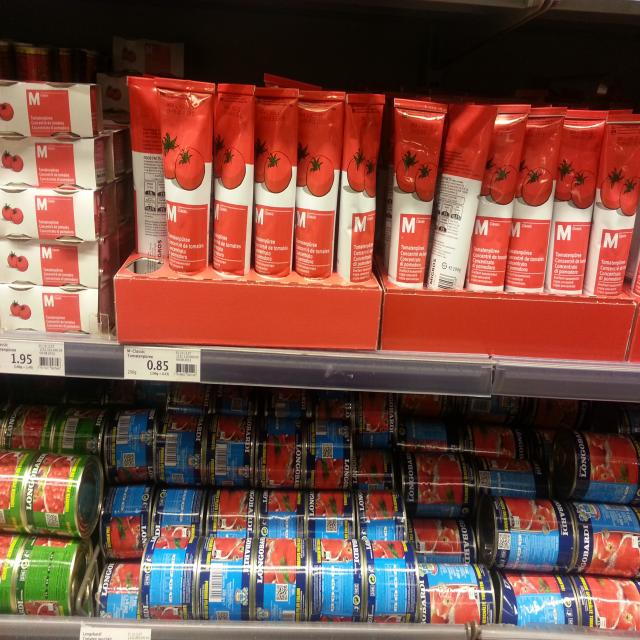Canned: (494, 556, 595, 640), (482, 494, 582, 574), (23, 446, 107, 540), (563, 486, 640, 576), (11, 527, 84, 621), (552, 427, 640, 502), (130, 529, 200, 617), (414, 558, 497, 632), (192, 531, 260, 621), (360, 525, 417, 626), (198, 530, 258, 623), (562, 564, 640, 631), (255, 530, 312, 621), (311, 532, 369, 621), (400, 446, 478, 507), (146, 474, 212, 544), (100, 480, 158, 553), (300, 408, 352, 488), (152, 404, 208, 478), (411, 506, 480, 565), (213, 404, 260, 490), (252, 412, 308, 483), (103, 410, 166, 473), (94, 552, 148, 625), (480, 456, 562, 500), (1, 440, 38, 534), (204, 483, 260, 540), (350, 441, 406, 498), (356, 487, 410, 545), (304, 480, 356, 530), (261, 485, 307, 535)
Sauce: (498, 98, 570, 301), (154, 82, 217, 289), (465, 95, 525, 302), (432, 100, 492, 297), (548, 108, 608, 302), (392, 93, 443, 300), (292, 88, 346, 281), (586, 114, 640, 294), (257, 83, 299, 276), (217, 85, 254, 280), (0, 284, 116, 341), (0, 81, 111, 139), (0, 136, 115, 191), (2, 190, 112, 242), (0, 241, 117, 281)
